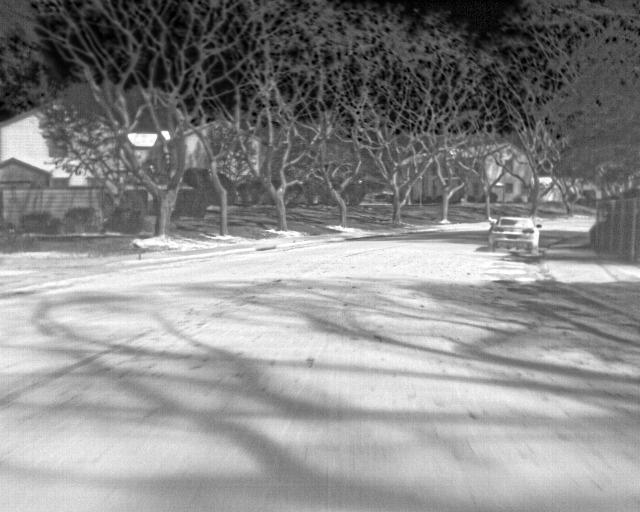car: (488, 213, 539, 258)
